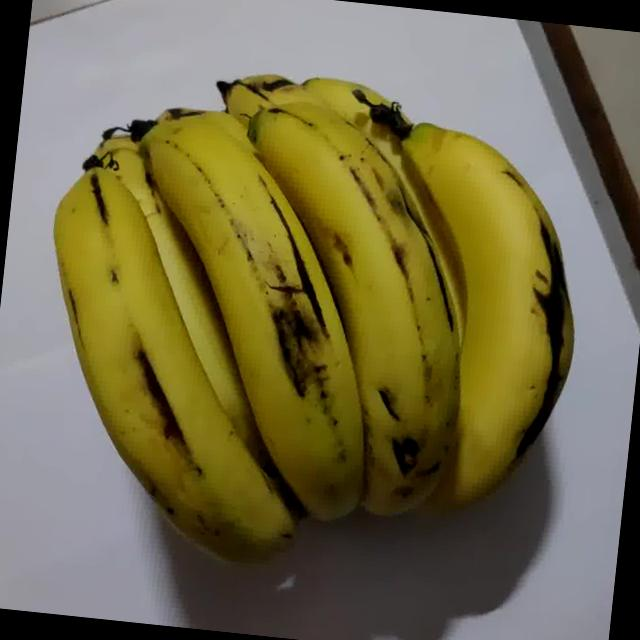banana_pacche: (0, 0, 625, 640)
